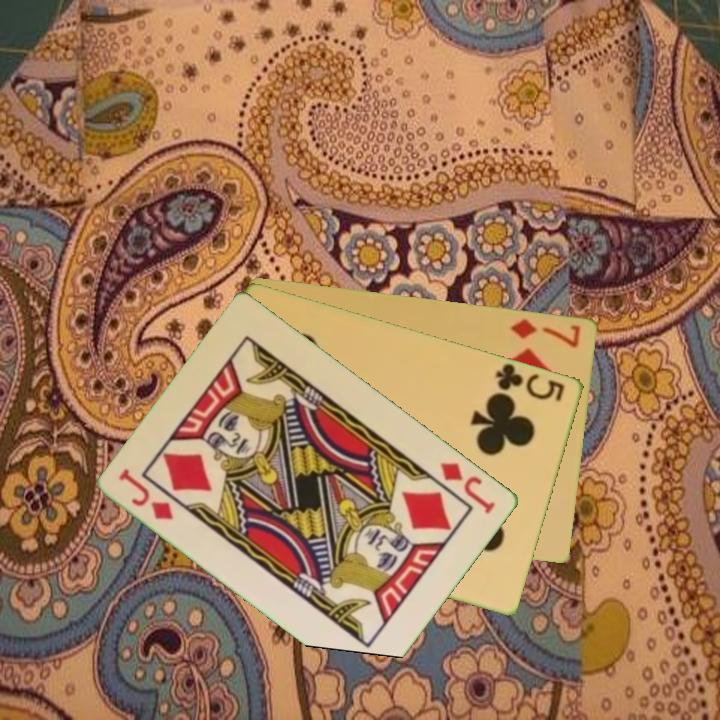5c: (492, 360, 568, 405)
7d: (508, 315, 584, 350)
Jd: (437, 458, 499, 517), (115, 465, 177, 523)
